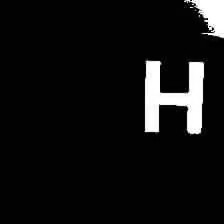LTR_H: (131, 55, 210, 141)
